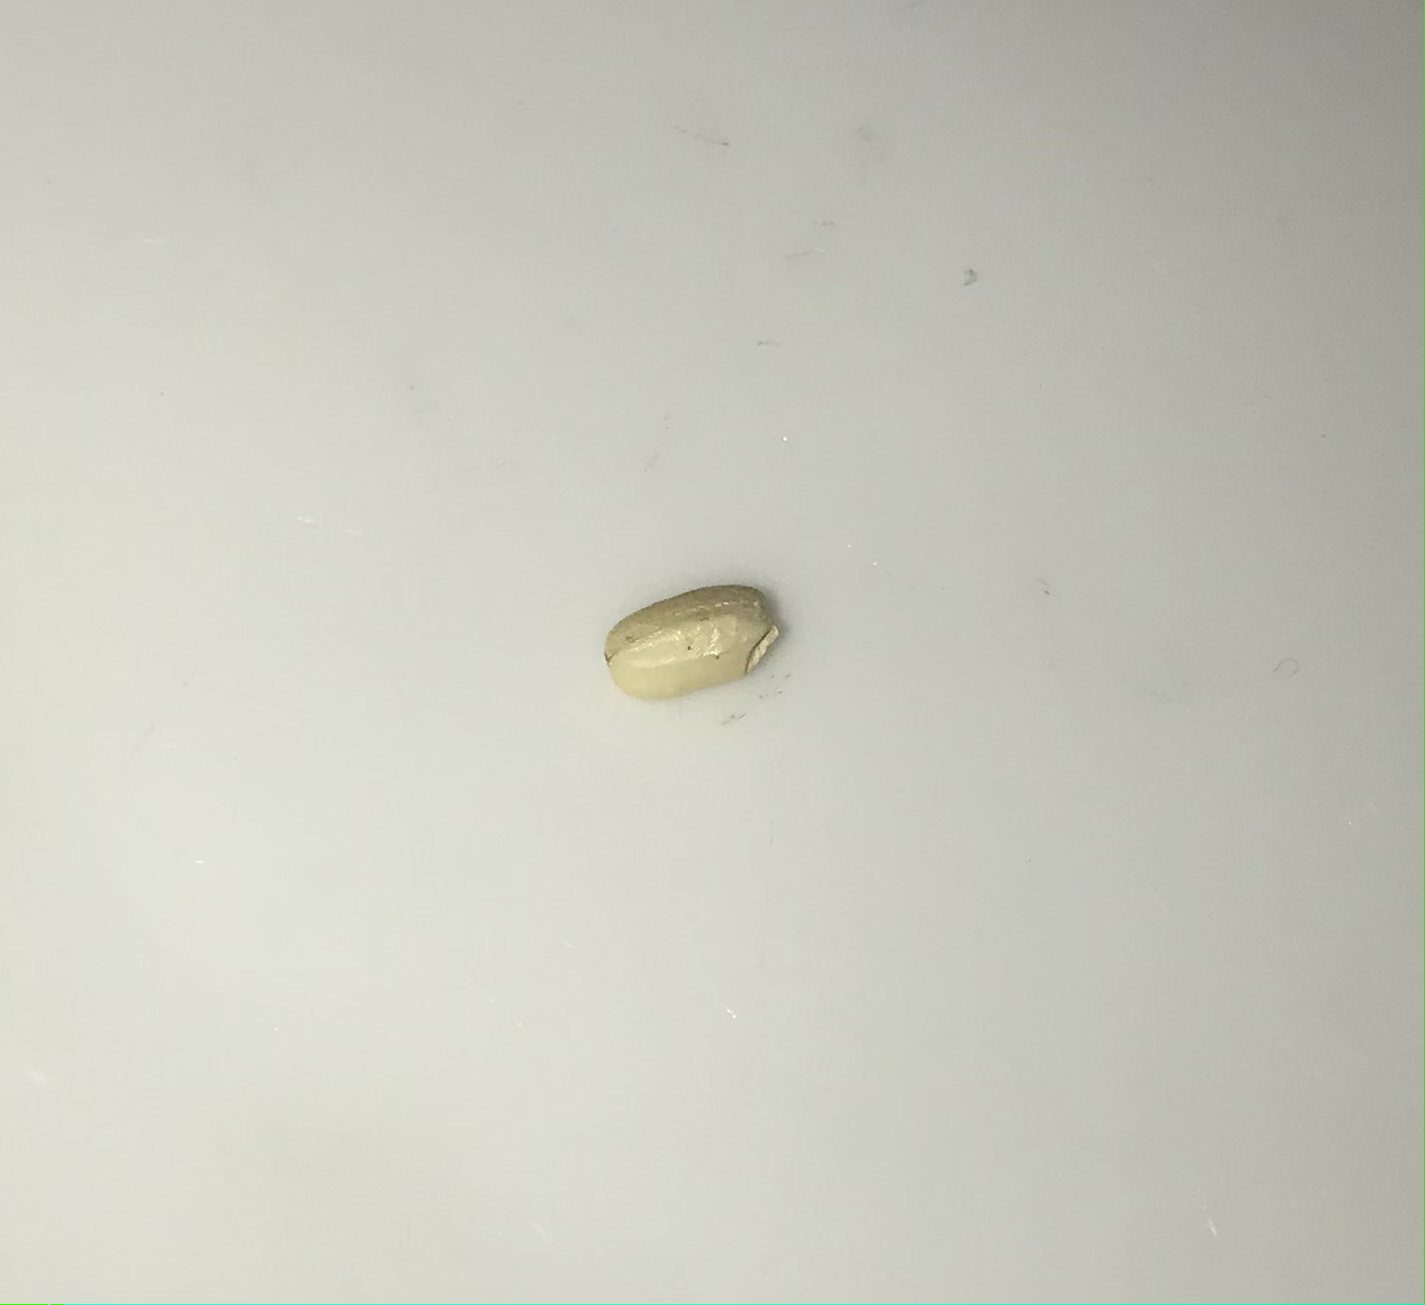Gao Lut Bac: (595, 571, 792, 714)
